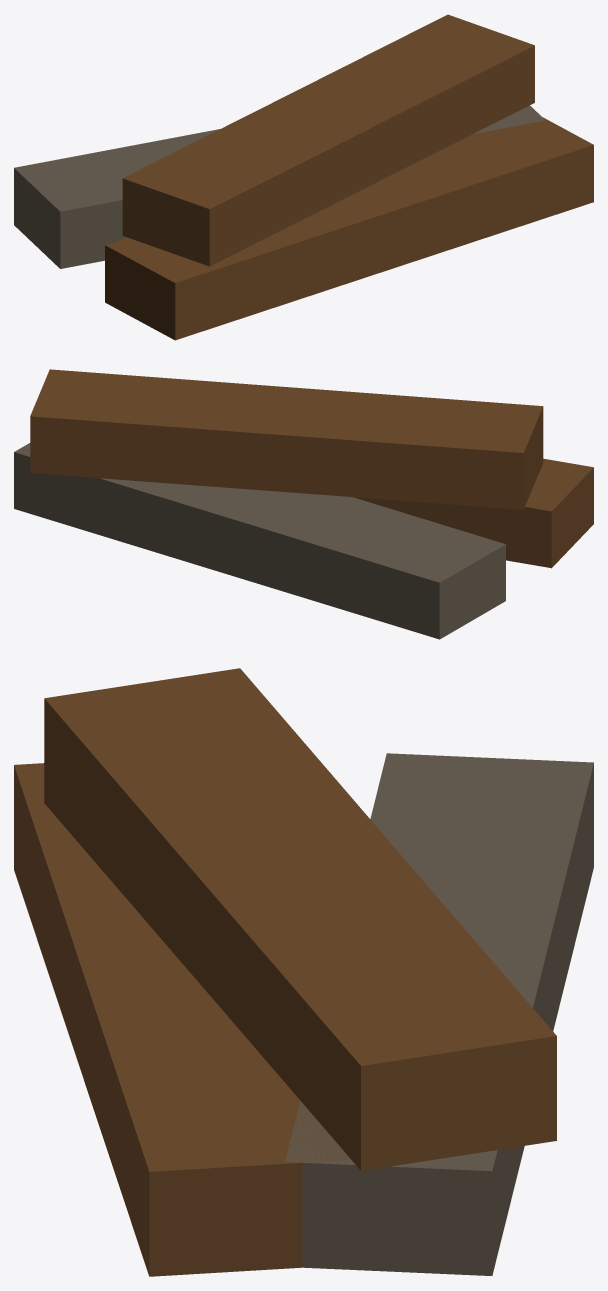
The model's file is Item_Wood.fbx.
3 renders of one model, top to bottom at view 1: azimuth 30°, elevation 25°; view 2: azimuth 150°, elevation 25°; view 3: azimuth 270°, elevation 25°, orthographic. The views are drawn at different scales.
Parts seen in each view (by area): view 1: Item_Wood; view 2: Item_Wood; view 3: Item_Wood.
Part boxes in pixels (left/top/right/bottom): Item_Wood: left=14, top=14, right=593, bottom=340; Item_Wood: left=14, top=369, right=593, bottom=639; Item_Wood: left=14, top=668, right=593, bottom=1276.
Size of the model in its own units: 0.4284 by 0.1 by 0.2505.
